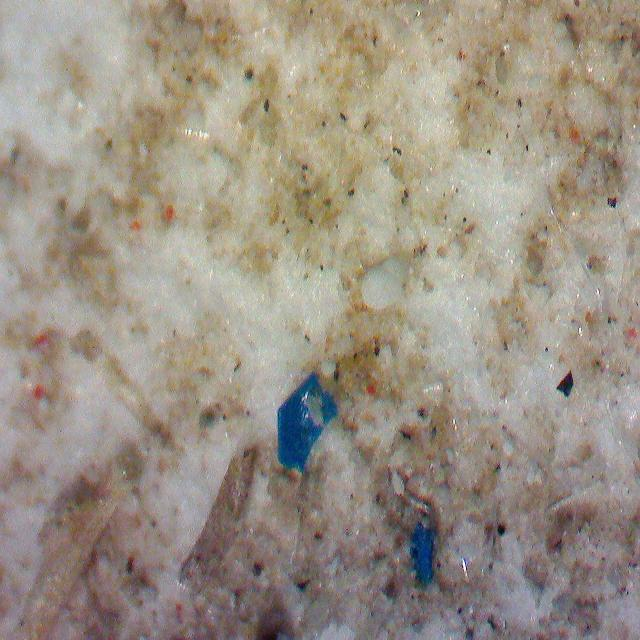microplastic: (276, 371, 337, 470), (411, 522, 436, 591)
